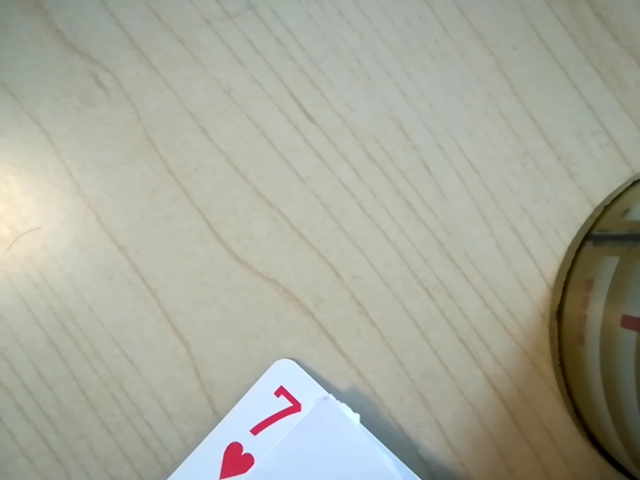hx 7: (206, 382, 305, 475)
